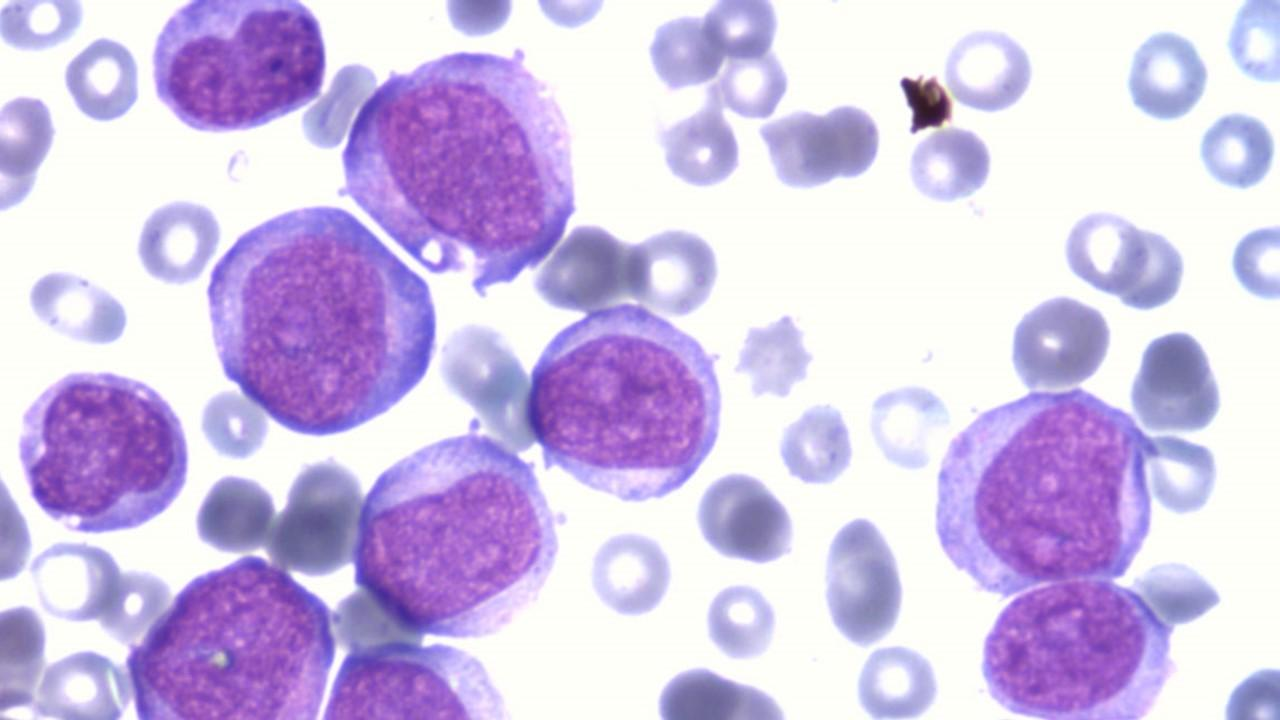RBC: (816, 509, 914, 650), (1126, 321, 1234, 434), (1004, 291, 1115, 391), (528, 219, 635, 316), (1119, 24, 1215, 128), (21, 261, 133, 350), (620, 223, 726, 317), (1120, 24, 1214, 126), (941, 22, 1040, 116), (583, 527, 679, 620), (436, 318, 529, 413), (130, 194, 222, 288), (692, 466, 780, 564), (27, 536, 122, 626), (865, 376, 955, 470), (2, 85, 61, 227), (1062, 206, 1148, 298), (904, 123, 996, 209), (774, 398, 859, 490), (848, 640, 948, 718), (656, 104, 744, 192), (1138, 430, 1224, 520), (62, 31, 143, 126), (31, 644, 133, 719), (760, 103, 842, 196), (1195, 105, 1277, 196), (190, 469, 276, 553), (734, 310, 816, 398), (700, 576, 782, 664), (1113, 222, 1187, 316), (648, 7, 726, 93), (724, 490, 798, 567), (194, 388, 273, 460), (718, 42, 790, 120), (818, 99, 884, 184), (0, 1, 92, 56), (1222, 1, 1278, 91), (702, 1, 782, 62), (1226, 219, 1280, 305), (0, 459, 36, 587), (527, 1, 614, 31)
WBC: (331, 36, 592, 302), (201, 196, 442, 444), (925, 377, 1153, 601), (346, 424, 568, 646), (518, 303, 731, 506), (123, 548, 340, 716), (10, 358, 197, 539), (972, 572, 1176, 716), (144, 0, 334, 142), (313, 638, 521, 716)
